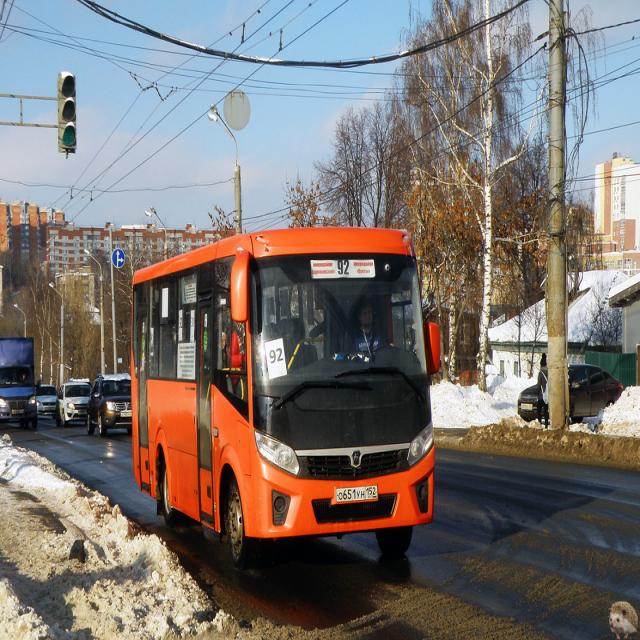number-of-bus: (268, 340, 289, 376), (337, 256, 353, 279)
